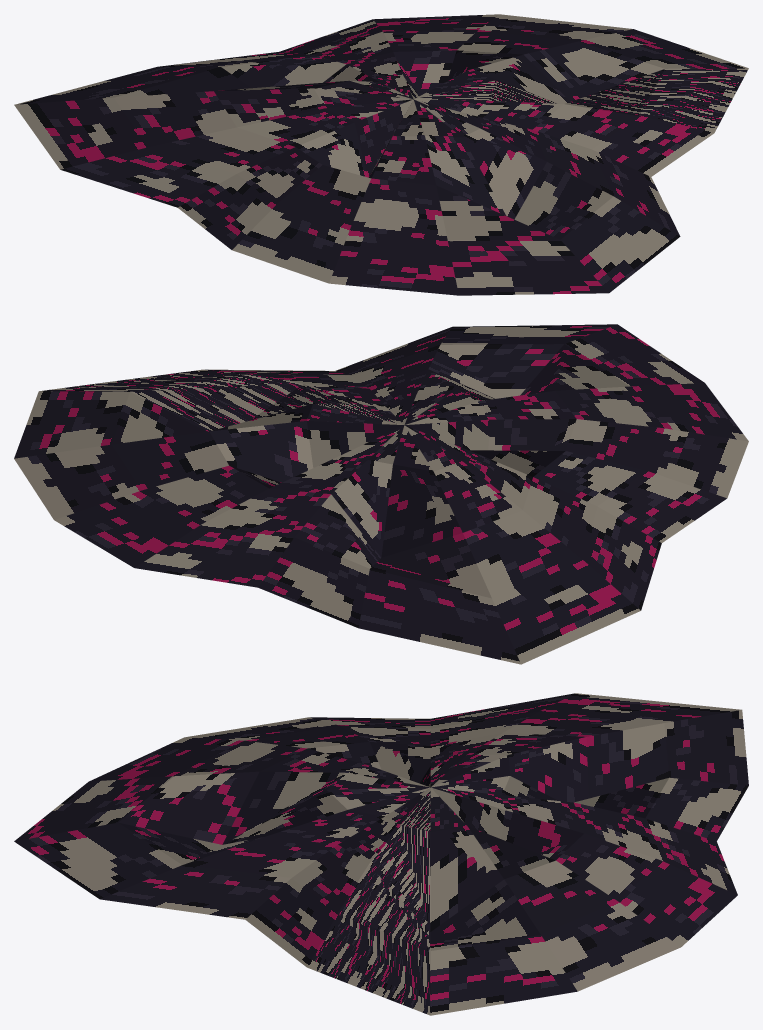
File: NIE-01_Costra.gltf
3 renders of one model, top to bottom at view 1: azimuth 30°, elevation 25°; view 2: azimuth 150°, elevation 25°; view 3: azimuth 270°, elevation 25°, orthographic. The views are drawn at different scales.
Visible parts, largest first — view 1: NIE-01_Costra; view 2: NIE-01_Costra; view 3: NIE-01_Costra.
Part boxes in pixels (x1,y1,x2,y2): NIE-01_Costra: (14,14,748,295); NIE-01_Costra: (14,324,748,664); NIE-01_Costra: (14,693,748,1015).
Size of the model in its own units: 1.22 by 0.101 by 1.17.
1 material, 1 textured.
